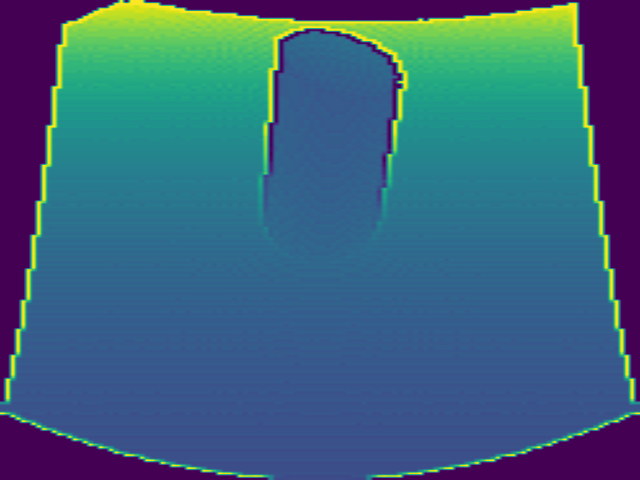cylinder: (258, 27, 405, 258)
